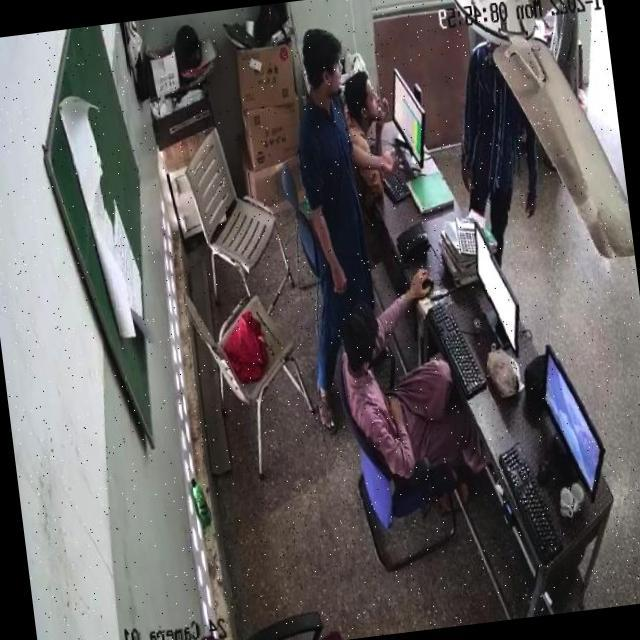person: (276, 40, 378, 411), (330, 300, 445, 470), (463, 42, 528, 232), (337, 58, 387, 176)
